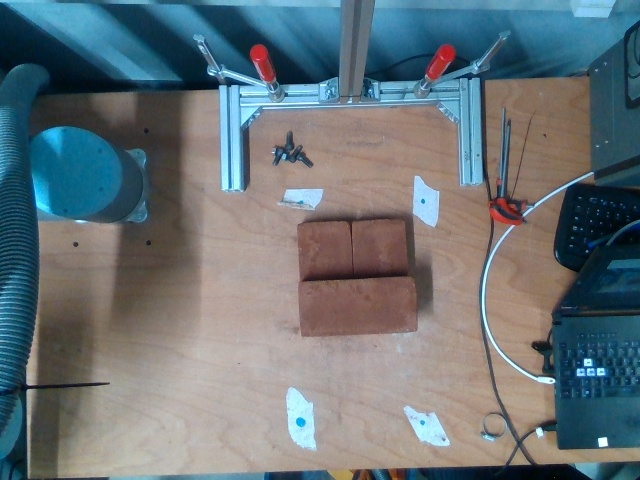brick: (300, 278, 416, 337)
